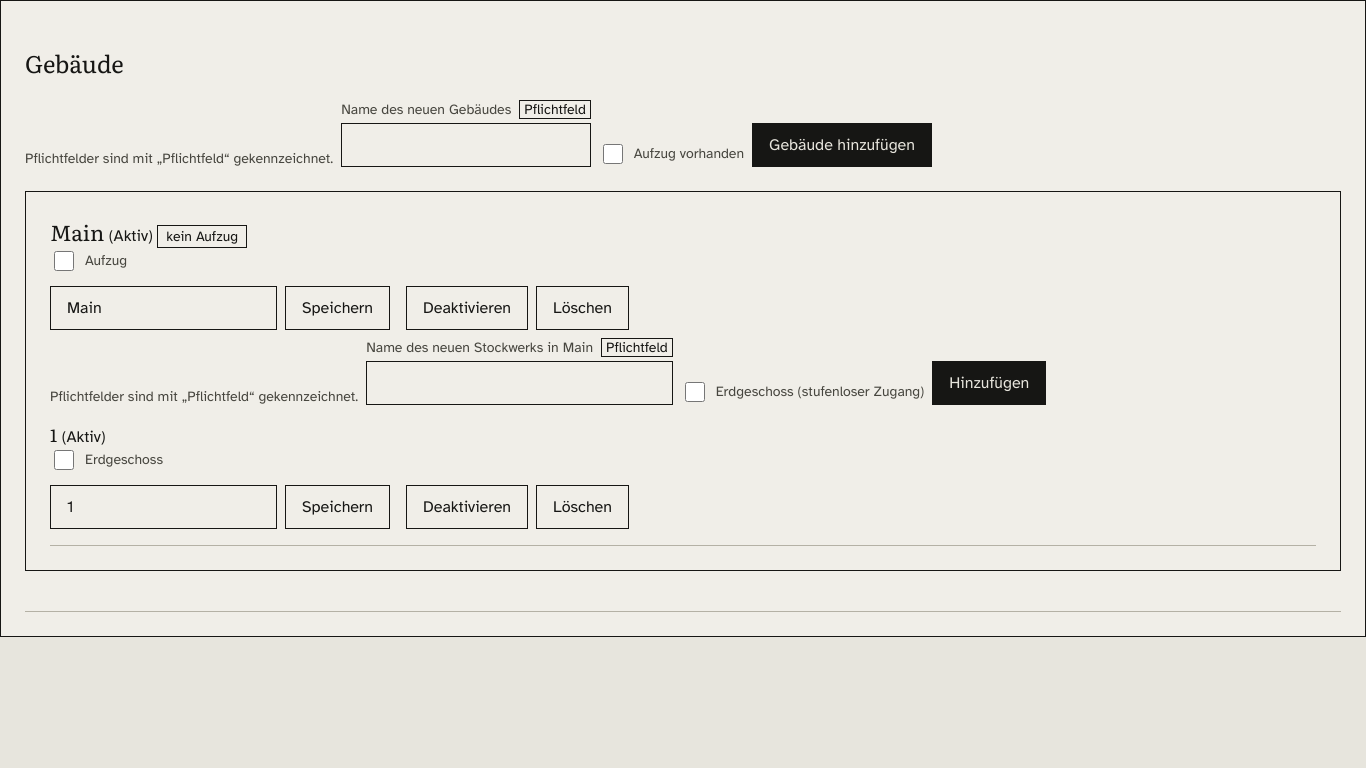
Test: BuildingCatalog › shows an error and keeps the building when delete is blocked because it still has floors
Expected: the text "Main" is shown, [50,216,104,248]
Click the button with aria-label "gebäude main löschen" at (583, 308), box [536,286,629,330]
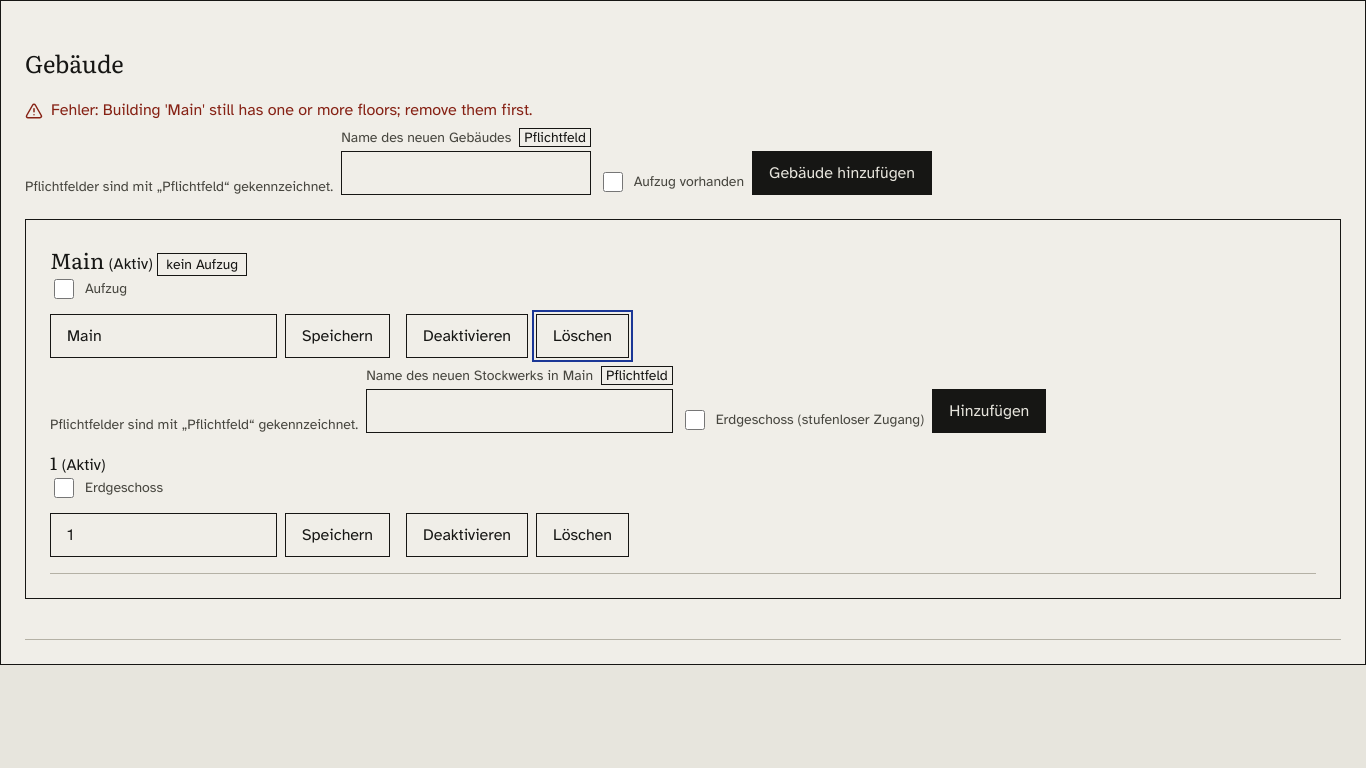
Expected: the text "Main" is shown, [50,244,104,276]
Now the text "still has one or more floors" is shown, box [103,100,532,120]
